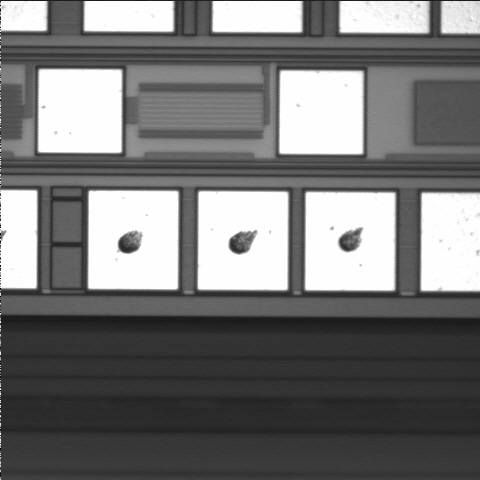pad: (198, 191, 288, 290), (305, 192, 395, 291), (88, 191, 178, 289), (38, 69, 122, 153), (280, 71, 363, 154)
